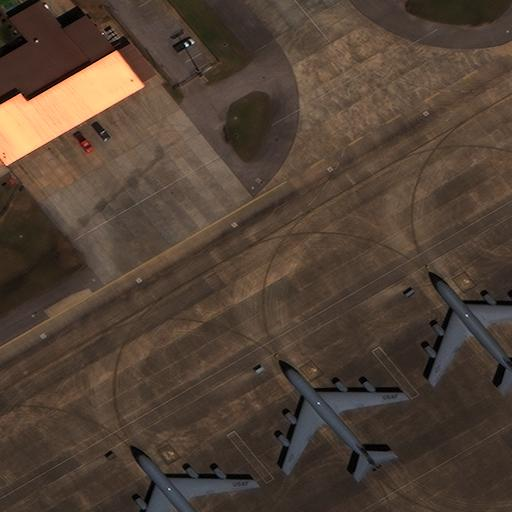Military Transport: (280, 364, 403, 468), (426, 277, 512, 381), (131, 450, 253, 511)
